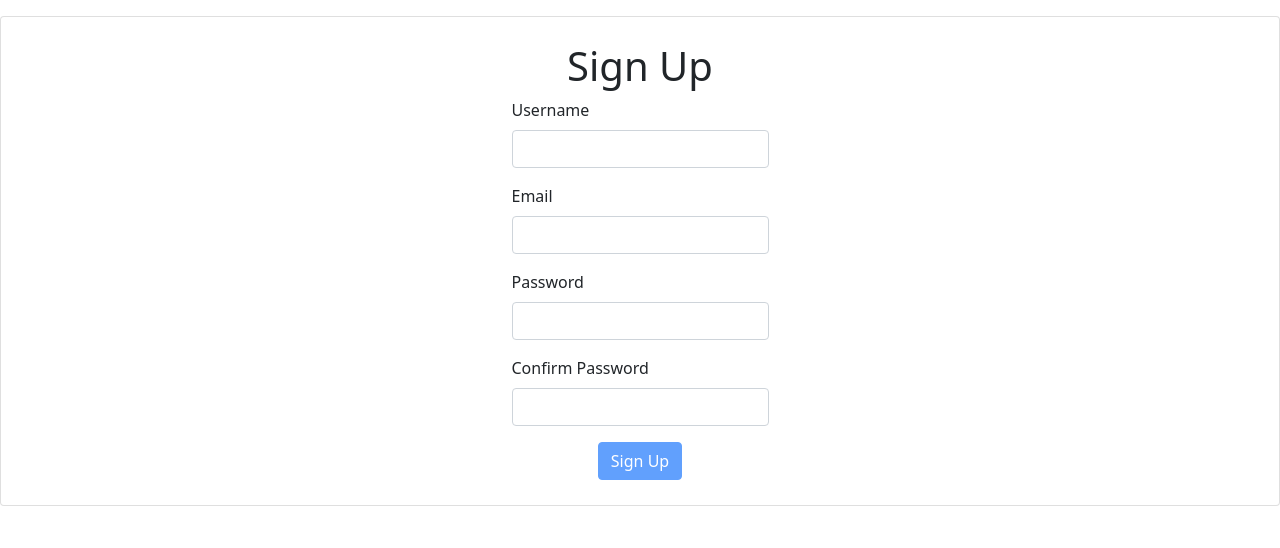
it: Sign Up Page › Interactions › displays Email cannot be null for email
Type "Test User" into the field labelled "Username" at x=640, y=149, box [512,130,768,168]
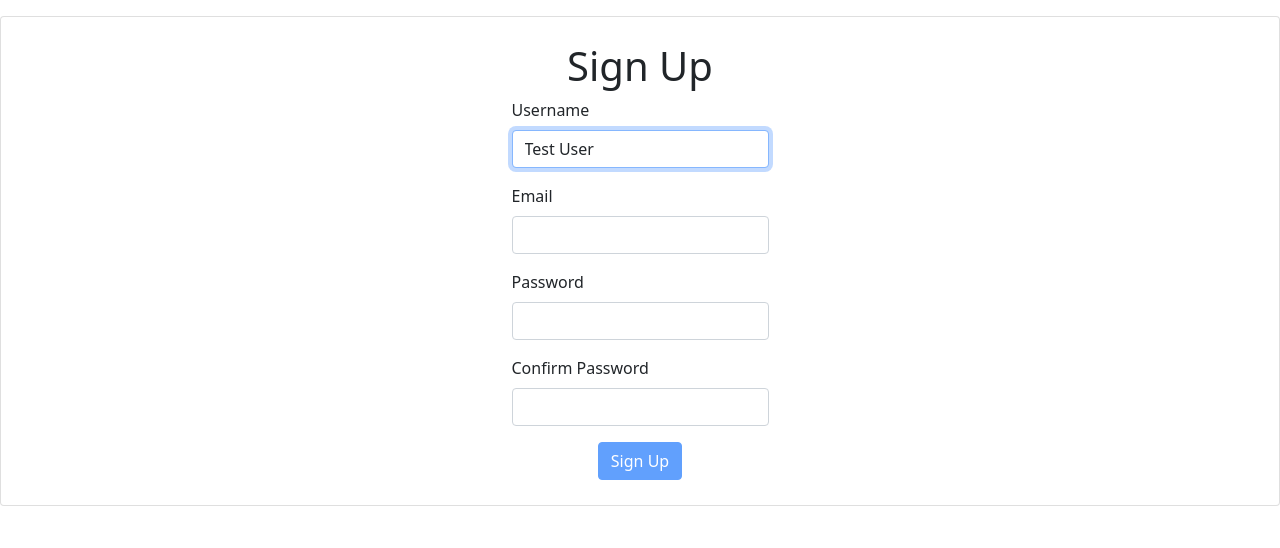
Type "test@test.com" into the field labelled "Email" at x=640, y=235, box [512,216,768,254]
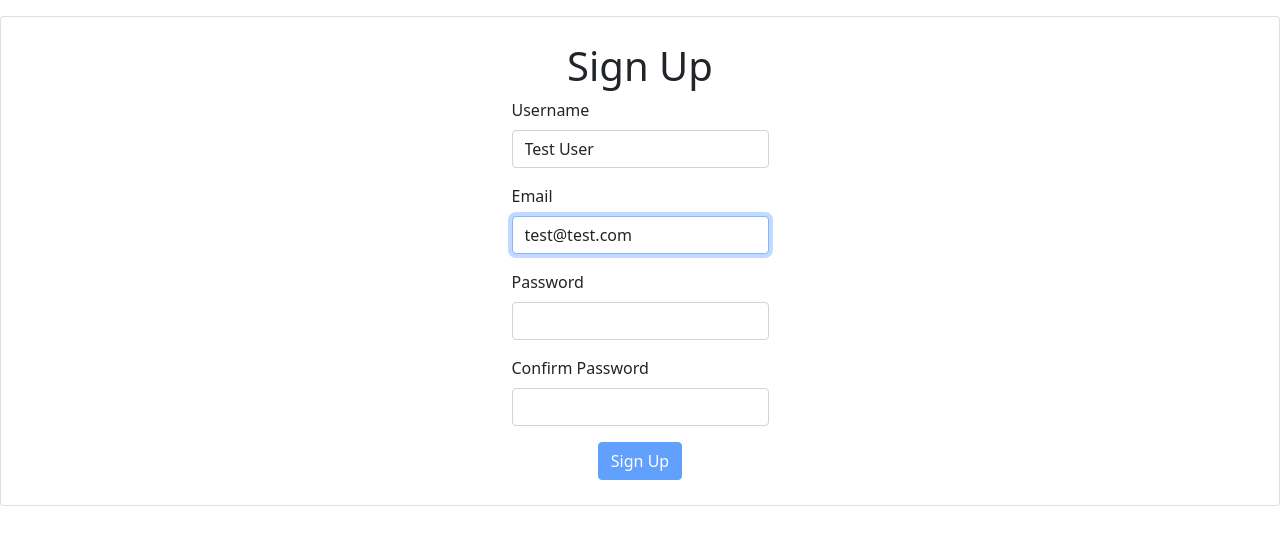
Type "password" into the password field labelled "Password" at x=640, y=321, box [512,302,768,340]
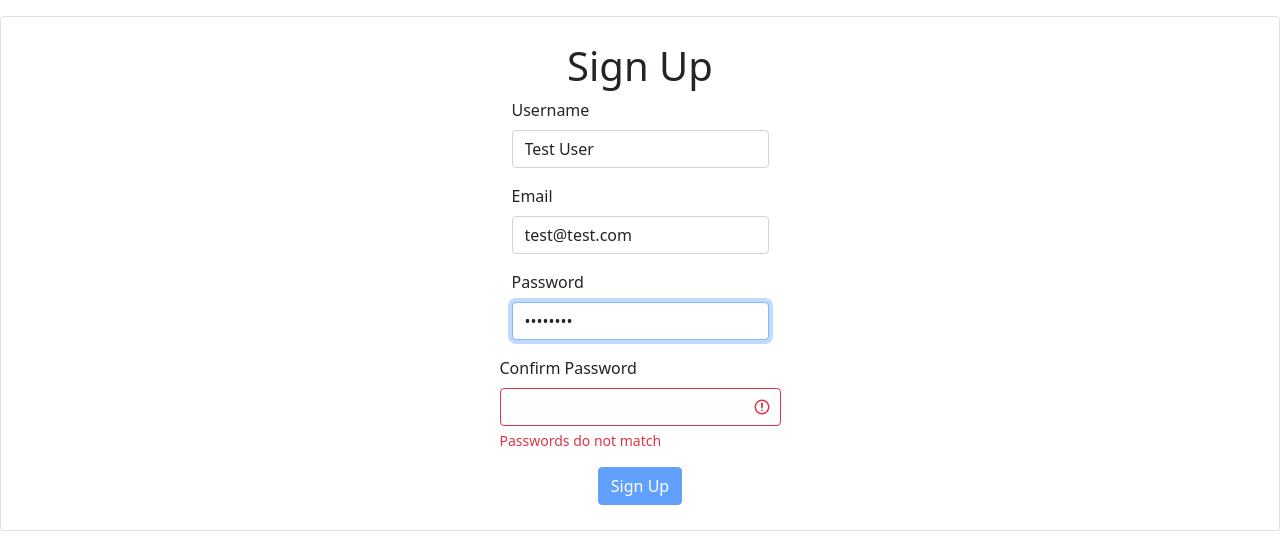
Type "password" into the password field labelled "Confirm Password" at x=640, y=407, box [500,388,780,426]
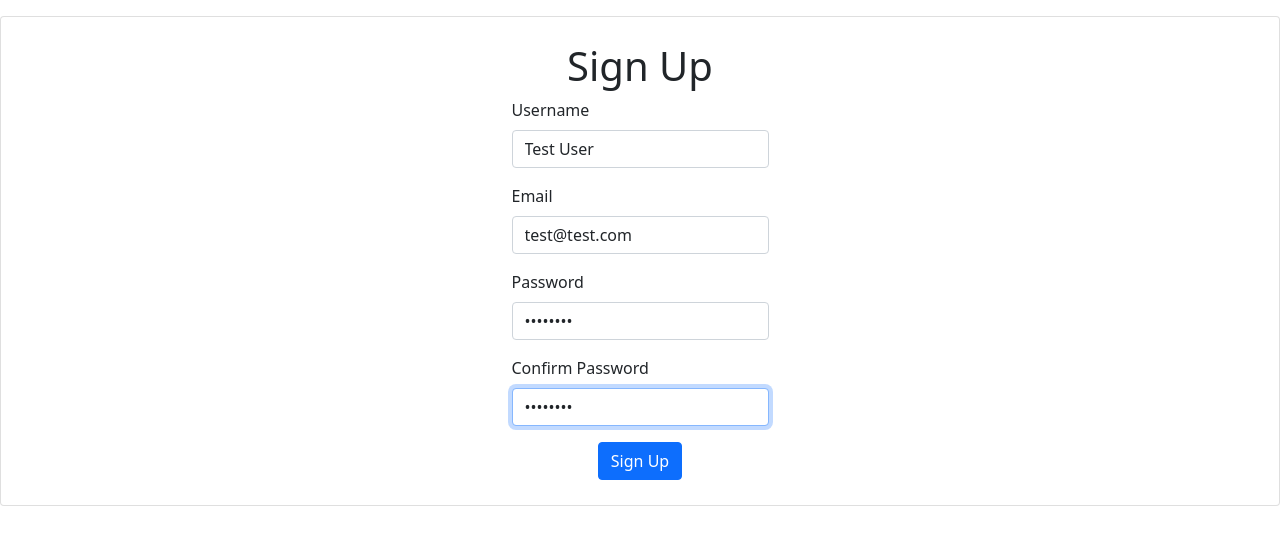
Click the button "Sign Up" at x=640, y=461, box [598,442,682,480]
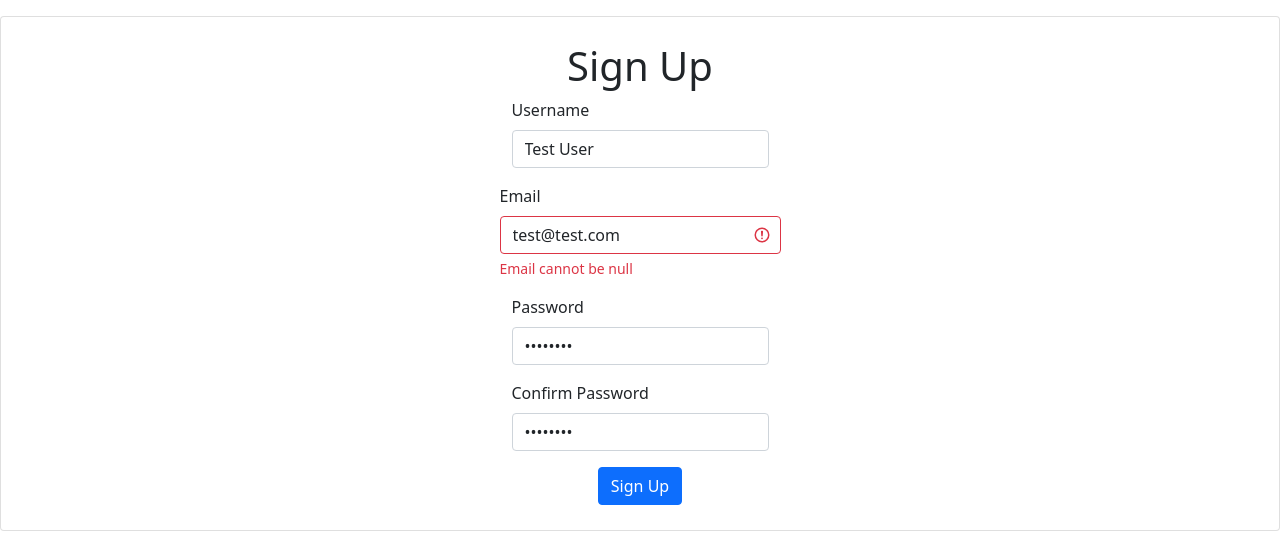
Now the text "Email cannot be null" is shown, box [500,259,633,278]
